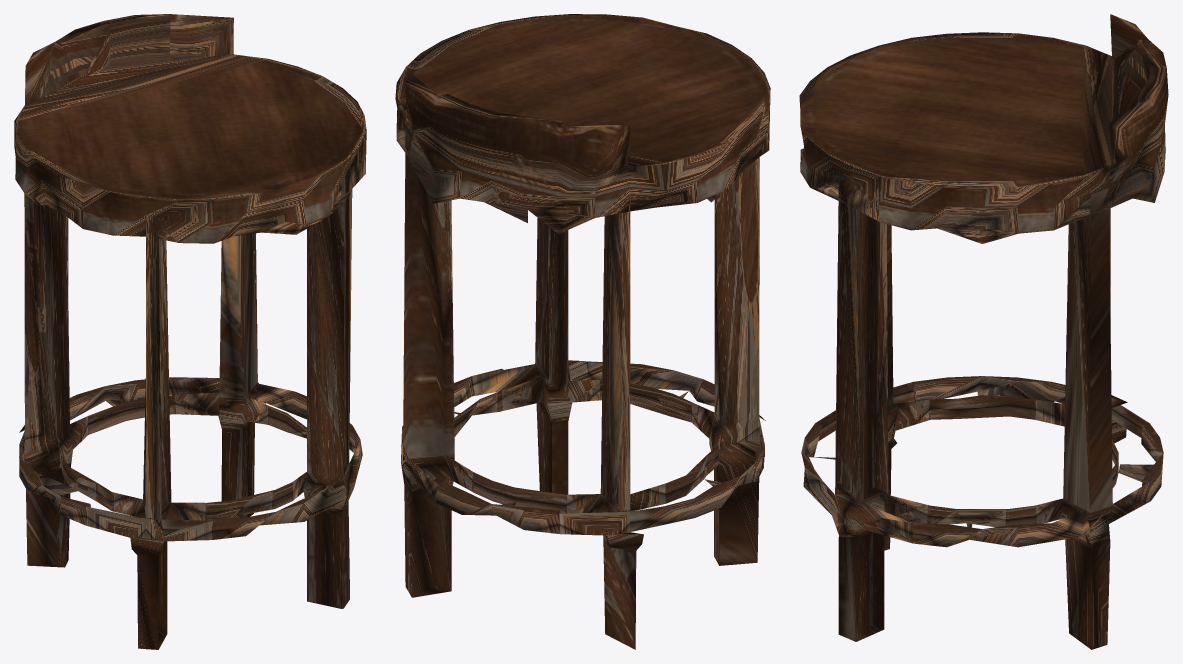
Rendered from bar_chair_round_01.gltf.
The picture shows the model from 3 angles, left to right: view 1: azimuth 30°, elevation 25°; view 2: azimuth 150°, elevation 25°; view 3: azimuth 270°, elevation 25°; orthographic projection. The views are drawn at different scales.
Bounding box in the file's own units: 0.4832 × 0.7497 × 0.4779.
Materials: 1 (1 with a texture image).
